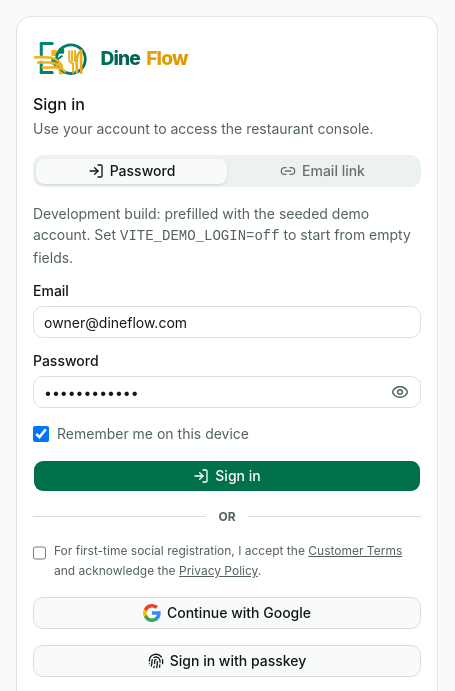
Test case: the password field › offers a visibility control
Click the button named "Show password".
click(400, 392)  # box [385,377,415,407]
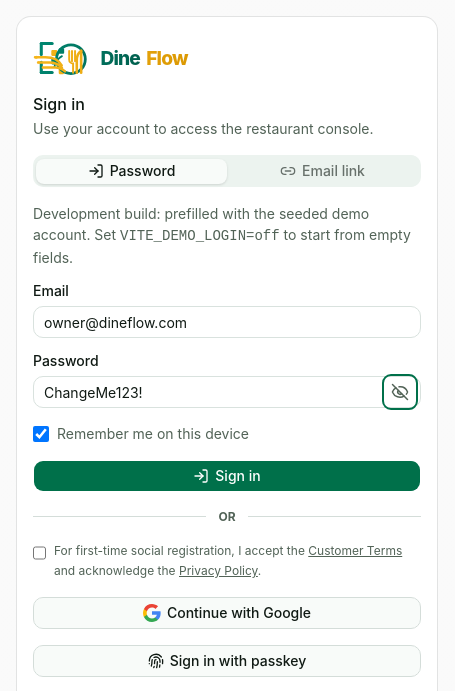
Now the field labelled "Password" shows its text, box [33,376,421,408]
